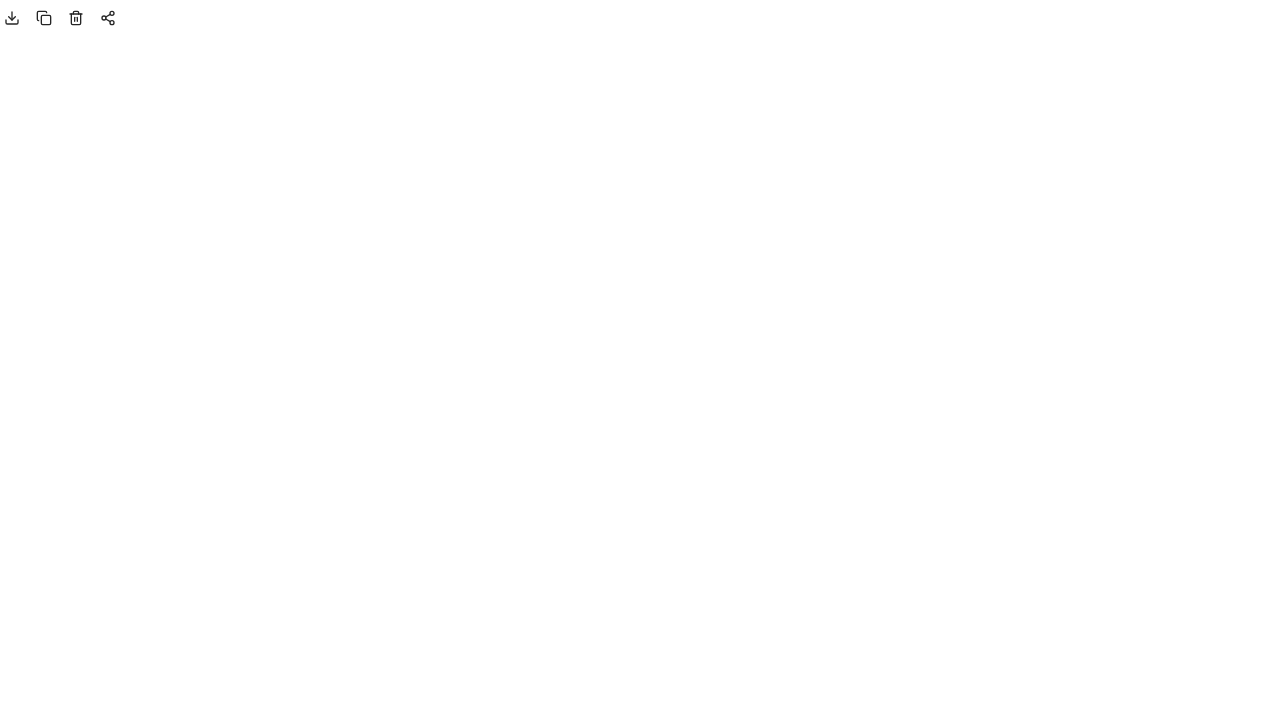
Scenario: TaskActions › Authenticated User Share Flow › shows organization and public share options when authenticated and sharing enabled
The width and height of the screenshot is (1280, 720).
Find share button by its test ID and click it
What coordinates should you click on to do the following:
click the button with test id "share-button"
I would click on:
 (108, 18)
Its box is [94,4,122,32].
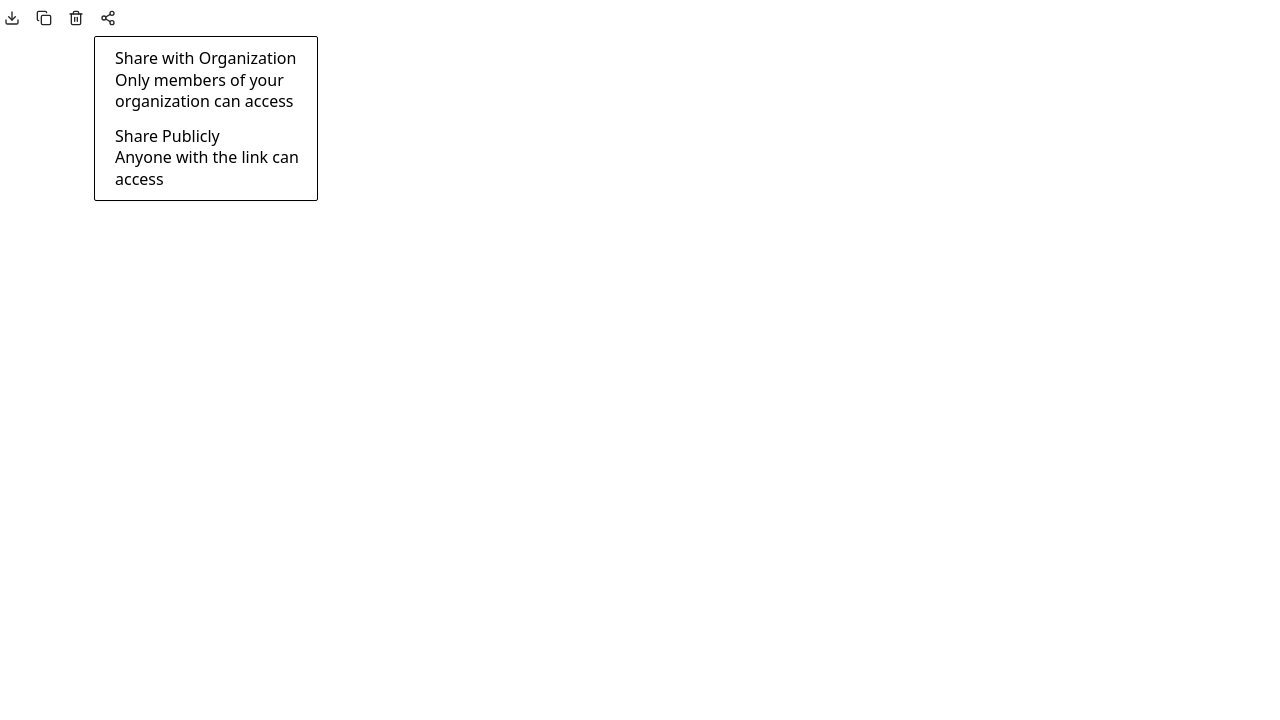
Expected: the text "Share with Organization" is shown, [115,47,305,70]
Expected: the text "Share Publicly" is shown, [115,124,220,146]
